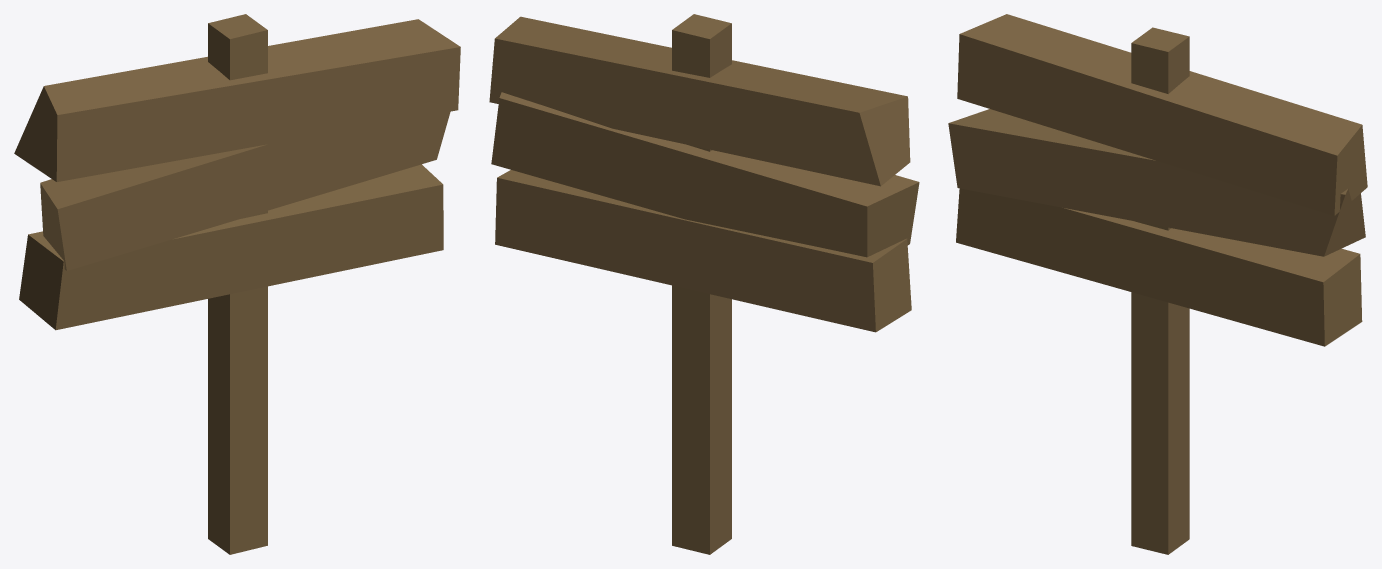
The model's file is sign1.fbx.
3 renders of one model, left to right at view 1: azimuth 30°, elevation 25°; view 2: azimuth 150°, elevation 25°; view 3: azimuth 330°, elevation 25°, orthographic. The views are drawn at different scales.
Visible parts, largest first — view 1: Cube.001; view 2: Cube.001; view 3: Cube.001.
Boxes of the visible parts, left/top/right/bottom form: Cube.001: left=14, top=14, right=460, bottom=554; Cube.001: left=489, top=14, right=919, bottom=554; Cube.001: left=948, top=14, right=1367, bottom=554.
Bounding box in the file's own units: 214 × 260 × 39.65.
